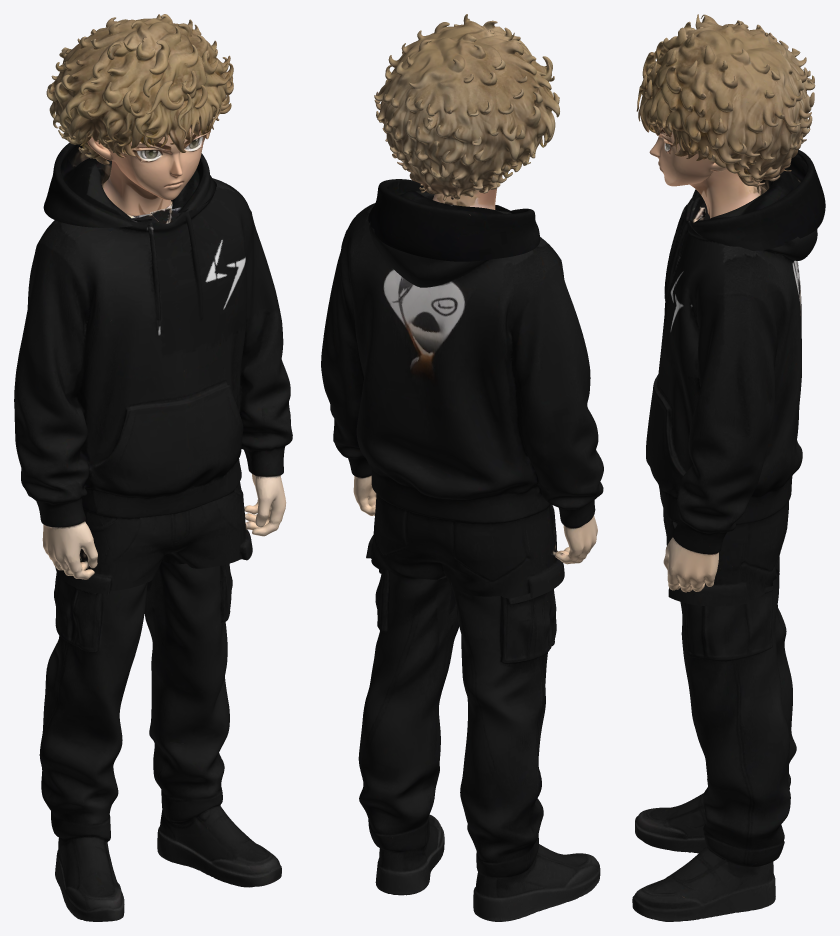
Rendered from char.glb.
3 views of the same model, side by side, from view 1: azimuth 30°, elevation 25°; view 2: azimuth 150°, elevation 25°; view 3: azimuth 270°, elevation 25° (orthographic).
Parts seen in each view (by area): view 1: CHAR; view 2: CHAR; view 3: CHAR.
Boxes of the visible parts, left/top/right/bottom form: CHAR: left=14, top=14, right=292, bottom=921; CHAR: left=321, top=14, right=603, bottom=921; CHAR: left=632, top=14, right=825, bottom=921.
Size of the model in its own units: 0.5928 by 1.83 by 0.3777.
3 materials, 3 textured.
